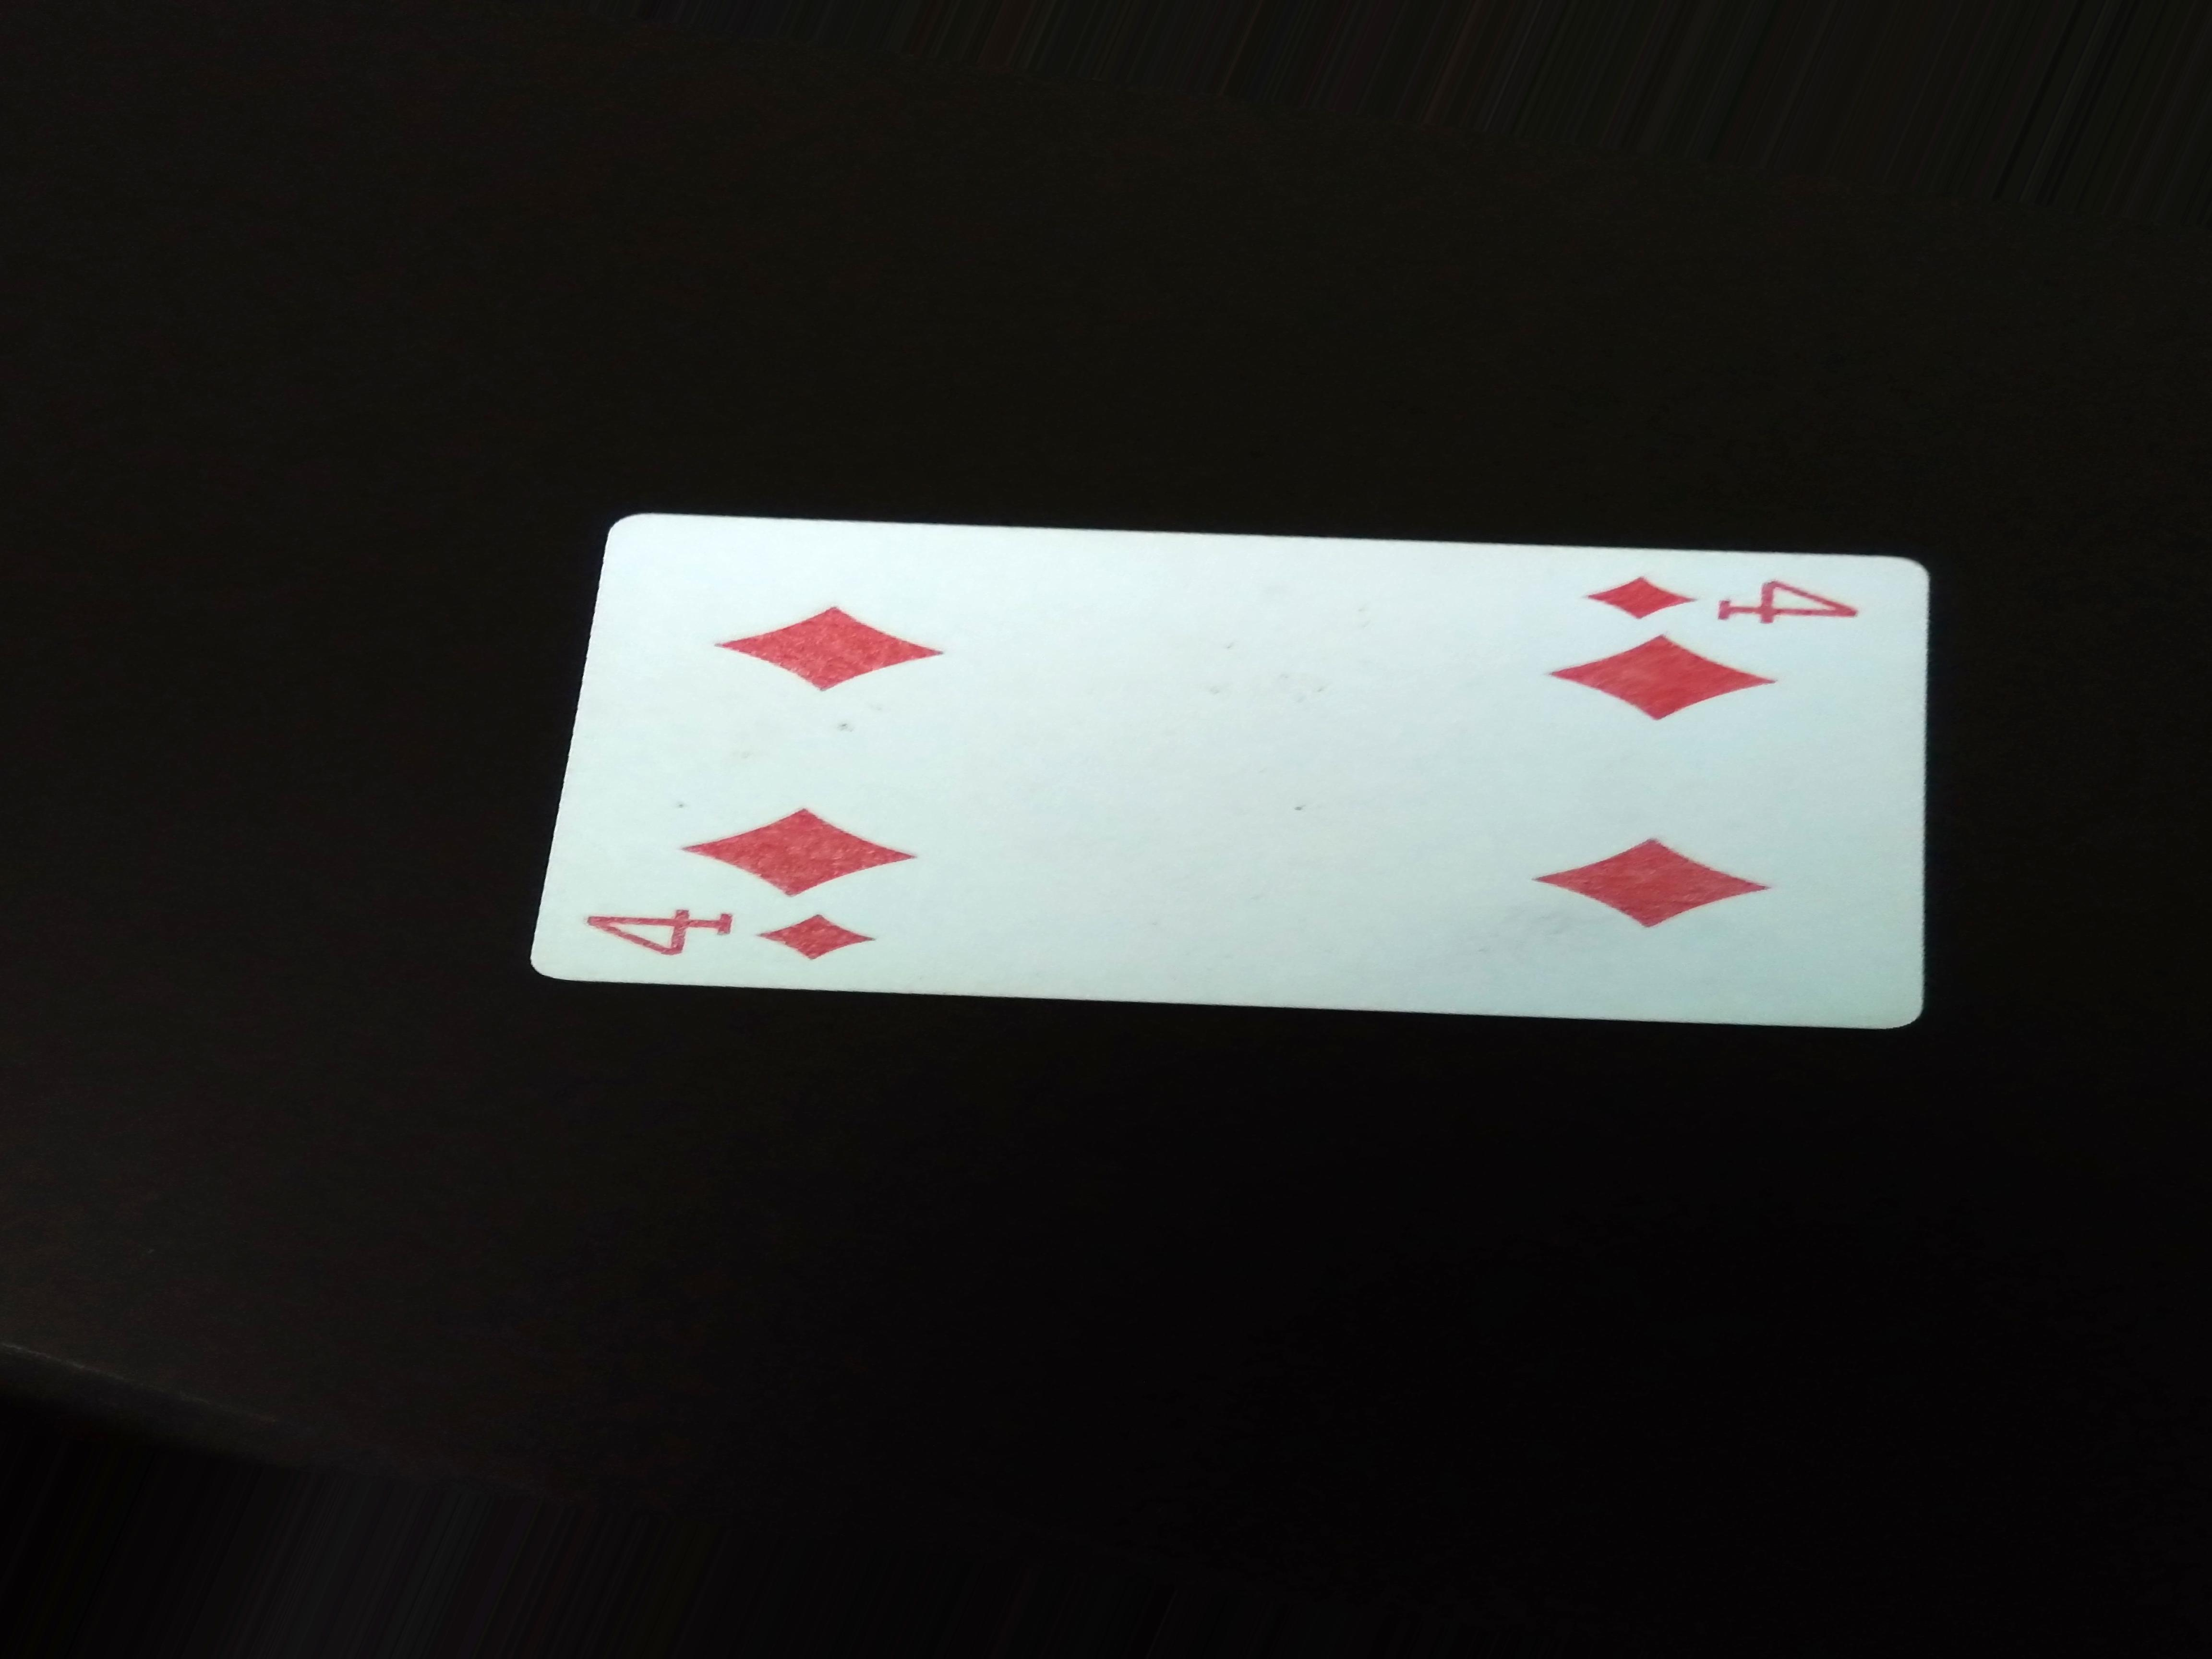4D: (1580, 561, 1897, 633)
